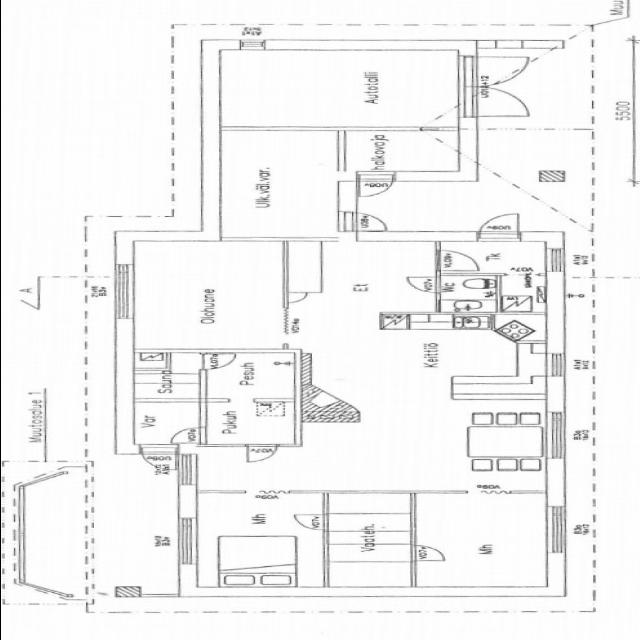door: (444, 51, 539, 91), (450, 86, 538, 124), (353, 165, 405, 197), (333, 211, 391, 236), (469, 211, 527, 235), (428, 250, 481, 274), (136, 447, 176, 471), (238, 443, 278, 465), (194, 351, 238, 371), (292, 511, 331, 533), (407, 545, 447, 565), (398, 275, 438, 293), (163, 428, 202, 446)
window: (98, 259, 142, 324), (540, 406, 574, 462), (540, 502, 570, 560), (171, 515, 204, 566), (168, 453, 206, 489), (542, 351, 570, 379), (542, 246, 566, 274)
